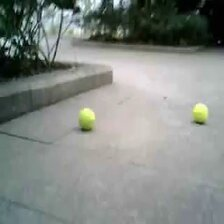tennis: (78, 108, 94, 128), (193, 103, 208, 123)
